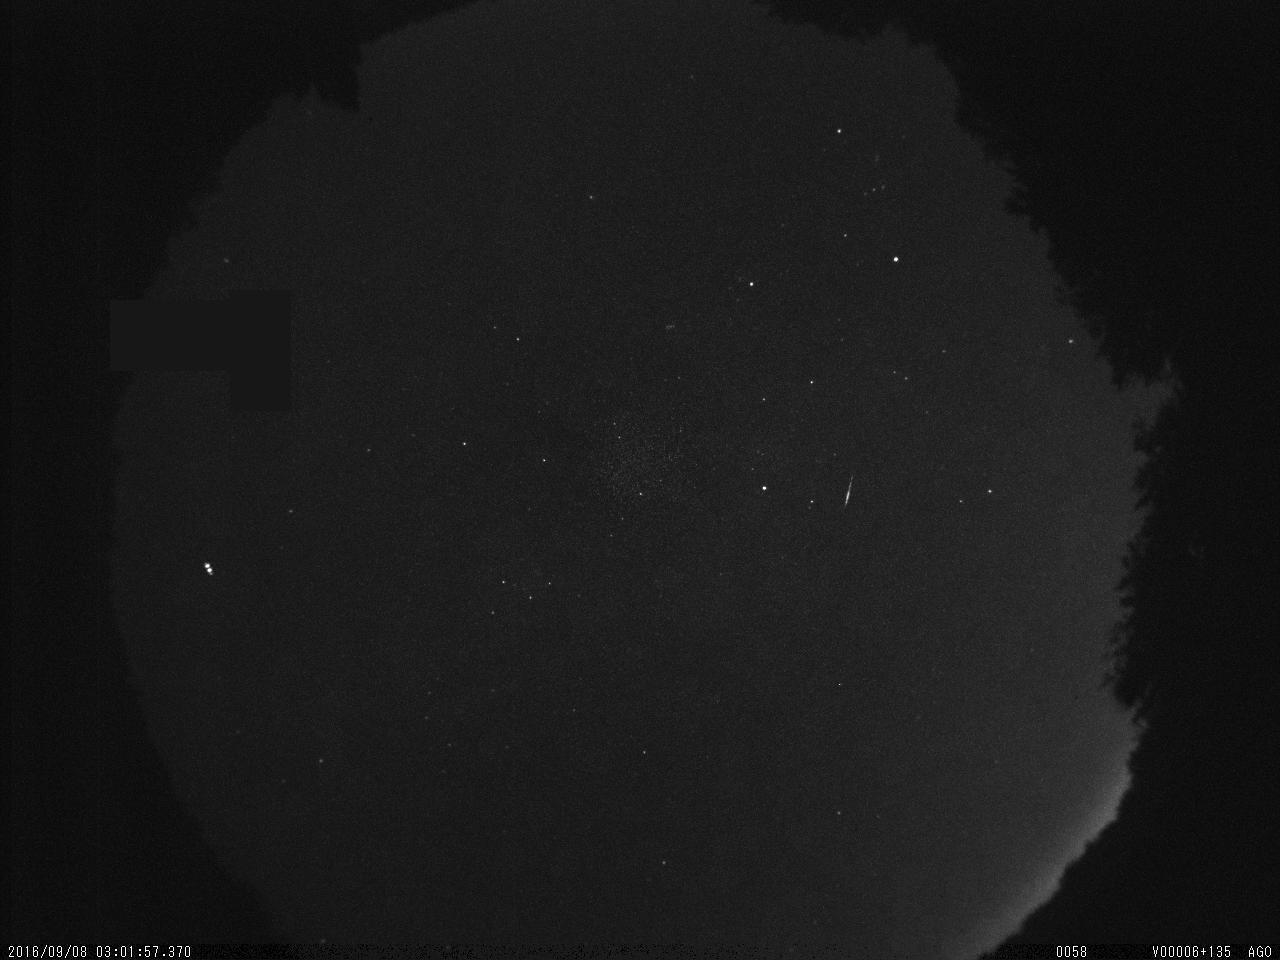Meteor: (840, 469, 859, 515)
